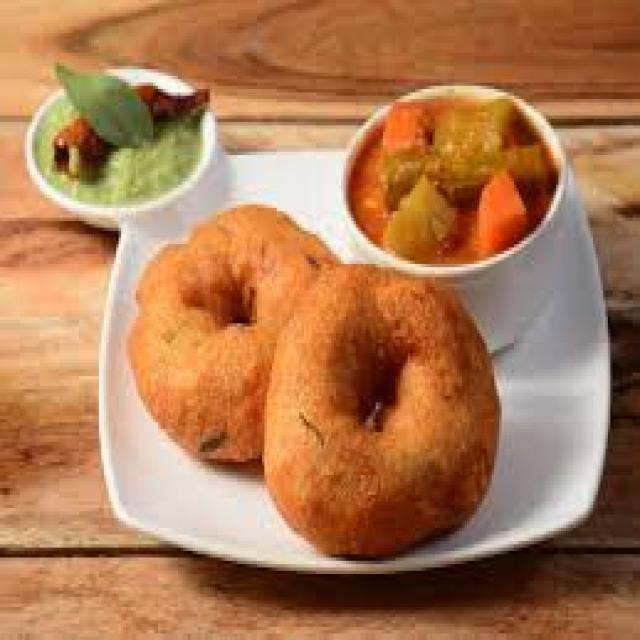MEDU VADA: (260, 263, 504, 560), (128, 201, 341, 460)
